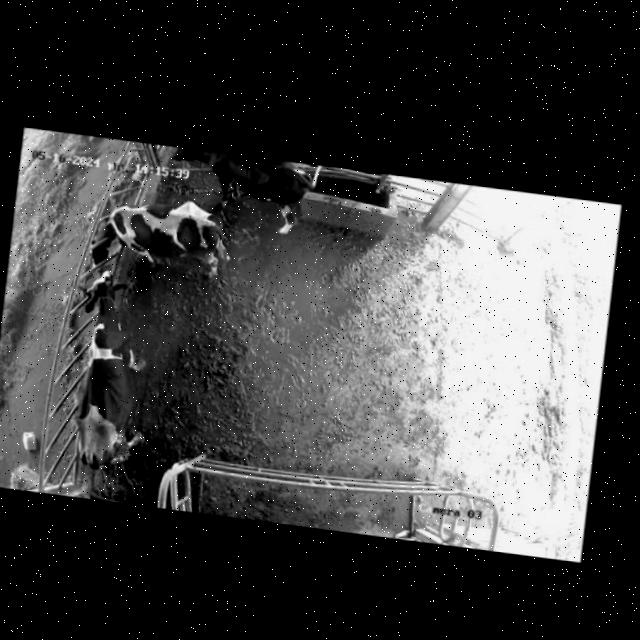eat: (48, 192, 170, 276)
stand: (57, 267, 164, 469), (162, 139, 316, 235)
